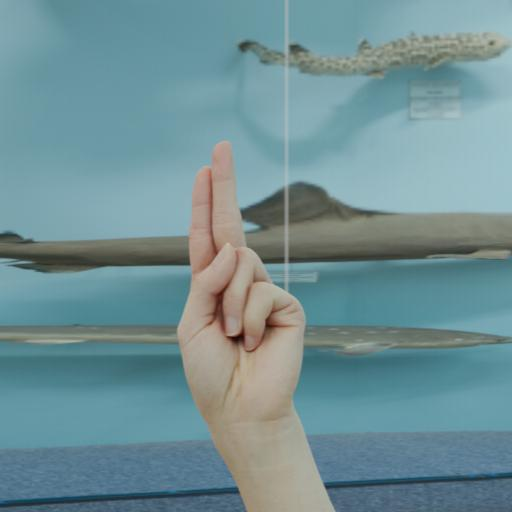U: (152, 120, 332, 462)
